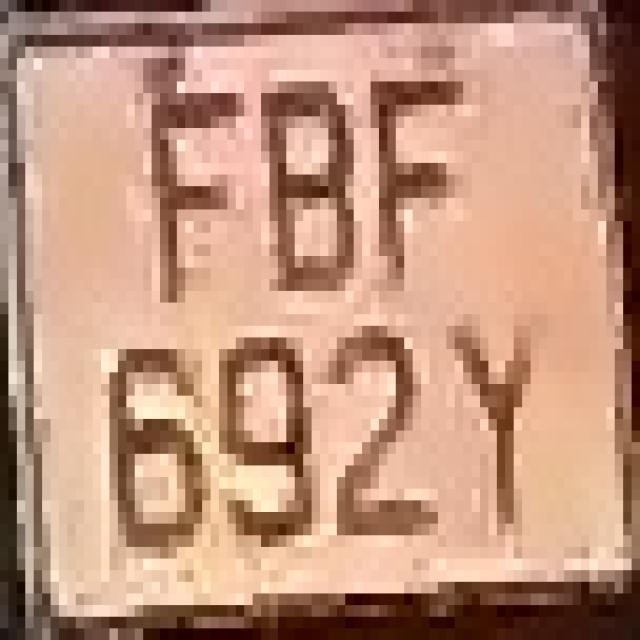2: (320, 314, 446, 559)
6: (93, 303, 219, 570)
9: (211, 291, 345, 547)
B: (244, 58, 362, 291)
F: (118, 46, 253, 338), (345, 46, 472, 302)
Y: (447, 279, 548, 559)
